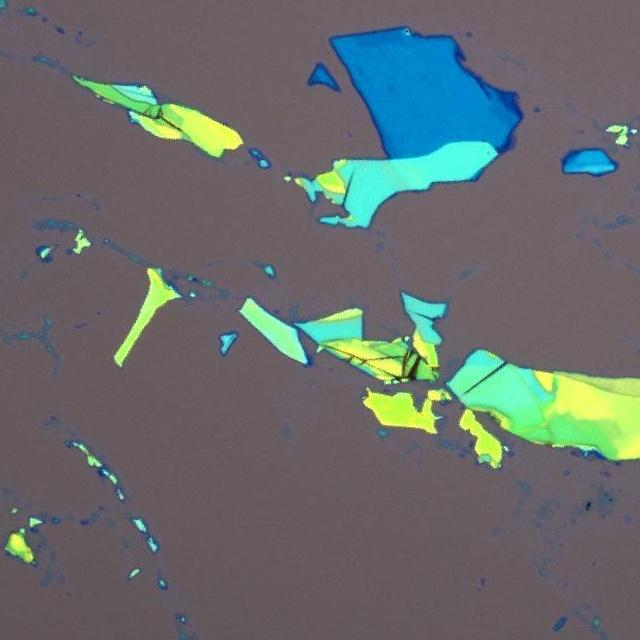monolayer-eWW4: (511, 132, 516, 149)
